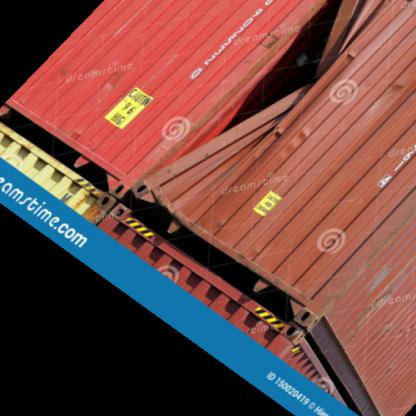Damage: (177, 4, 378, 155)
